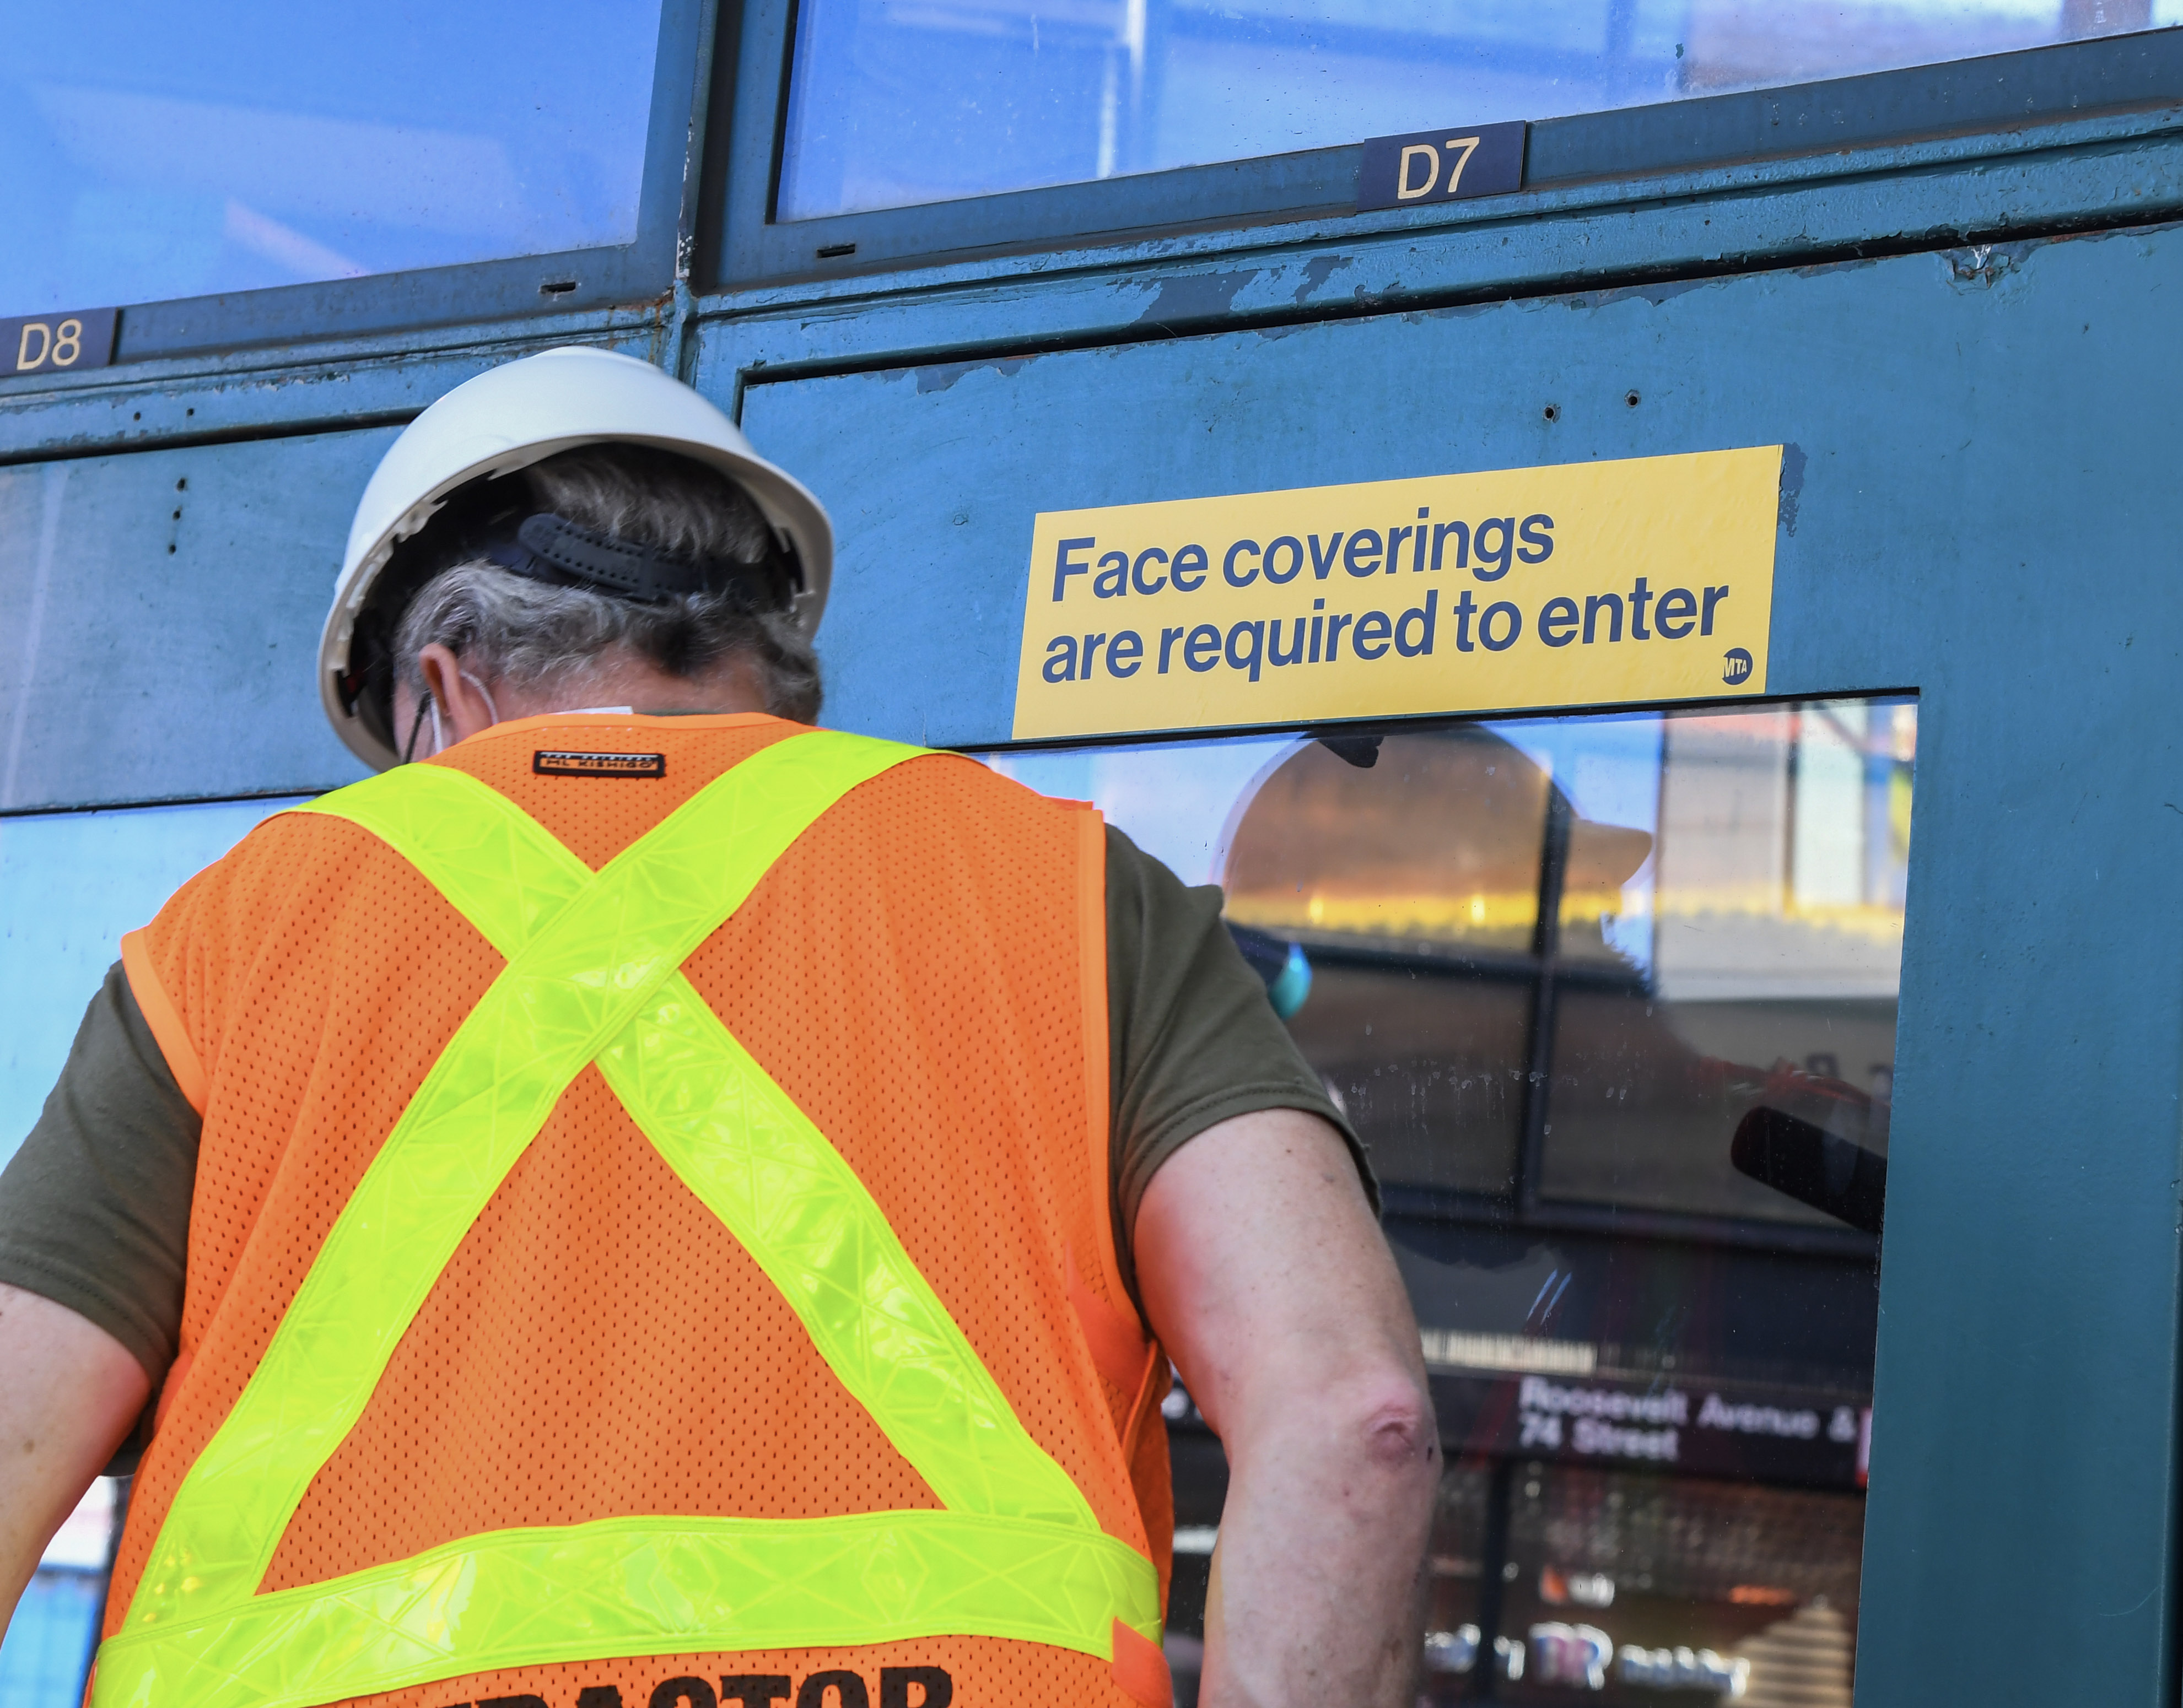Hard Hat: (311, 366, 841, 766)
Person: (7, 366, 1434, 1698)
Vest: (208, 462, 1184, 1694)
